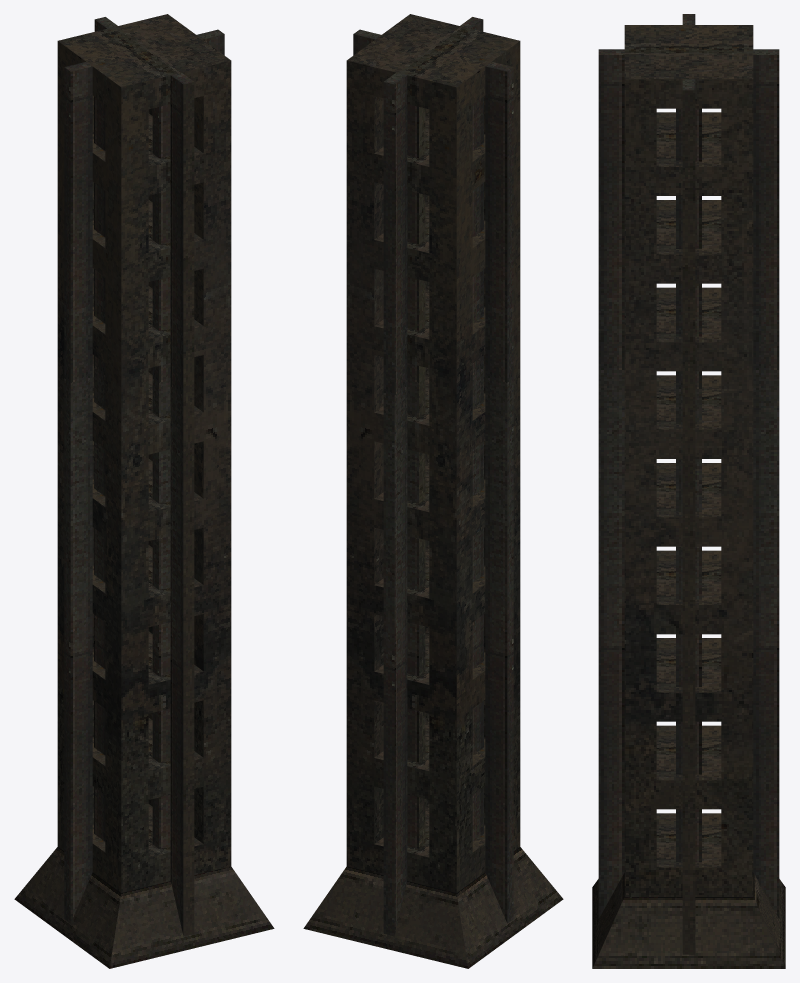
Rendered from pillar_rgx_3.glb.
3 views of the same model, side by side, from view 1: azimuth 30°, elevation 25°; view 2: azimuth 150°, elevation 25°; view 3: azimuth 270°, elevation 25° (orthographic).
Parts seen in each view (by area): view 1: pillar_rgx_3; view 2: pillar_rgx_3; view 3: pillar_rgx_3.
Boxes of the visible parts, box(x1,y1,x2,y2) form: pillar_rgx_3: box(14, 14, 274, 968); pillar_rgx_3: box(303, 14, 563, 968); pillar_rgx_3: box(592, 14, 785, 968).
Bounding box in the file's own units: 0.6 × 3 × 0.6.
2 materials, 2 textured.
